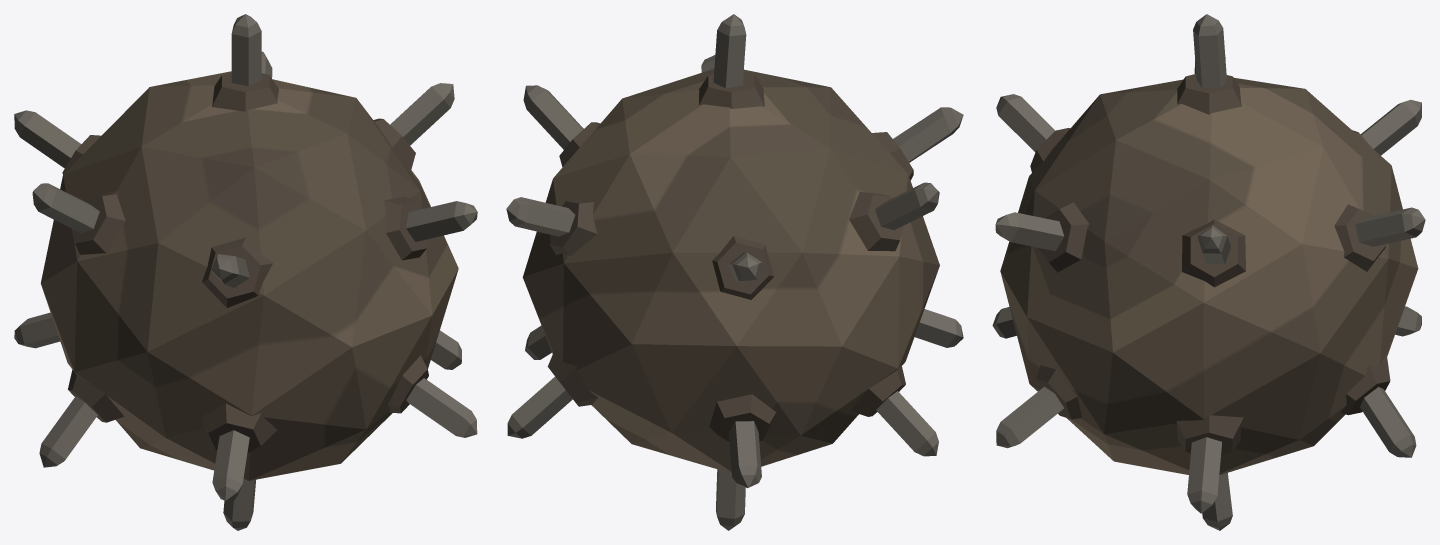
File: SM_Prop_Sea_Mine_01.fbx
The picture shows the model from 3 angles, left to right: view 1: azimuth 30°, elevation 25°; view 2: azimuth 150°, elevation 25°; view 3: azimuth 270°, elevation 25°; orthographic projection.
Parts seen in each view (by area): view 1: SM_Prop_Sea_Mine_01; view 2: SM_Prop_Sea_Mine_01; view 3: SM_Prop_Sea_Mine_01.
Part boxes in pixels (bbox=[...]): SM_Prop_Sea_Mine_01: bbox=[14, 14, 477, 530]; SM_Prop_Sea_Mine_01: bbox=[506, 14, 963, 530]; SM_Prop_Sea_Mine_01: bbox=[992, 14, 1425, 530].
Bounding box in the file's own units: 163 × 191 × 145.
